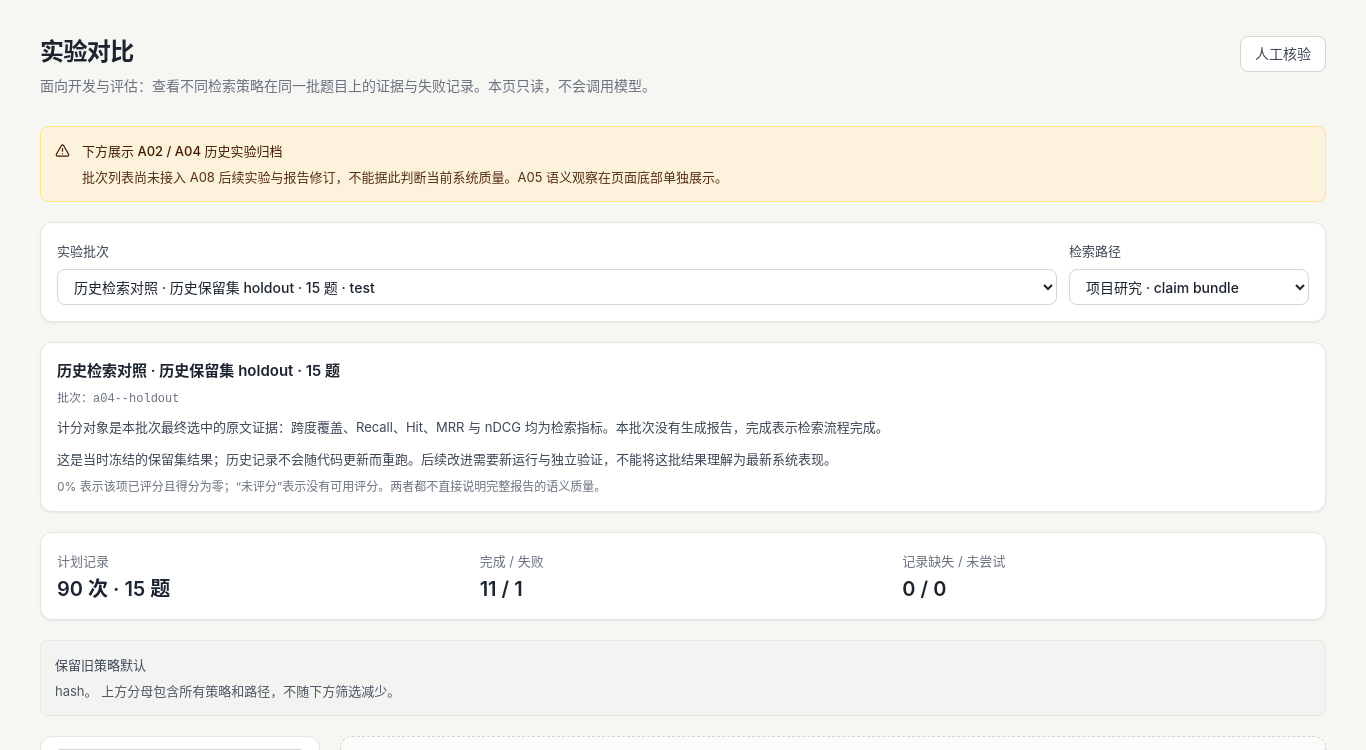
Scenario: experiment comparison › keeps historical scoring context aligned when switching batches
expect the element named "当前批次说明" shows "历史保留集 holdout · 15 题": met, box [40,342,1326,512]
expect the element named "当前批次说明" shows "本批次没有生成报告": met, box [57,419,889,435]
Select "历史真实生成 · 开发集 dev · 2 题 · test" in the dropdown labelled "实验批次" at (557, 287), box [57,269,1057,305]
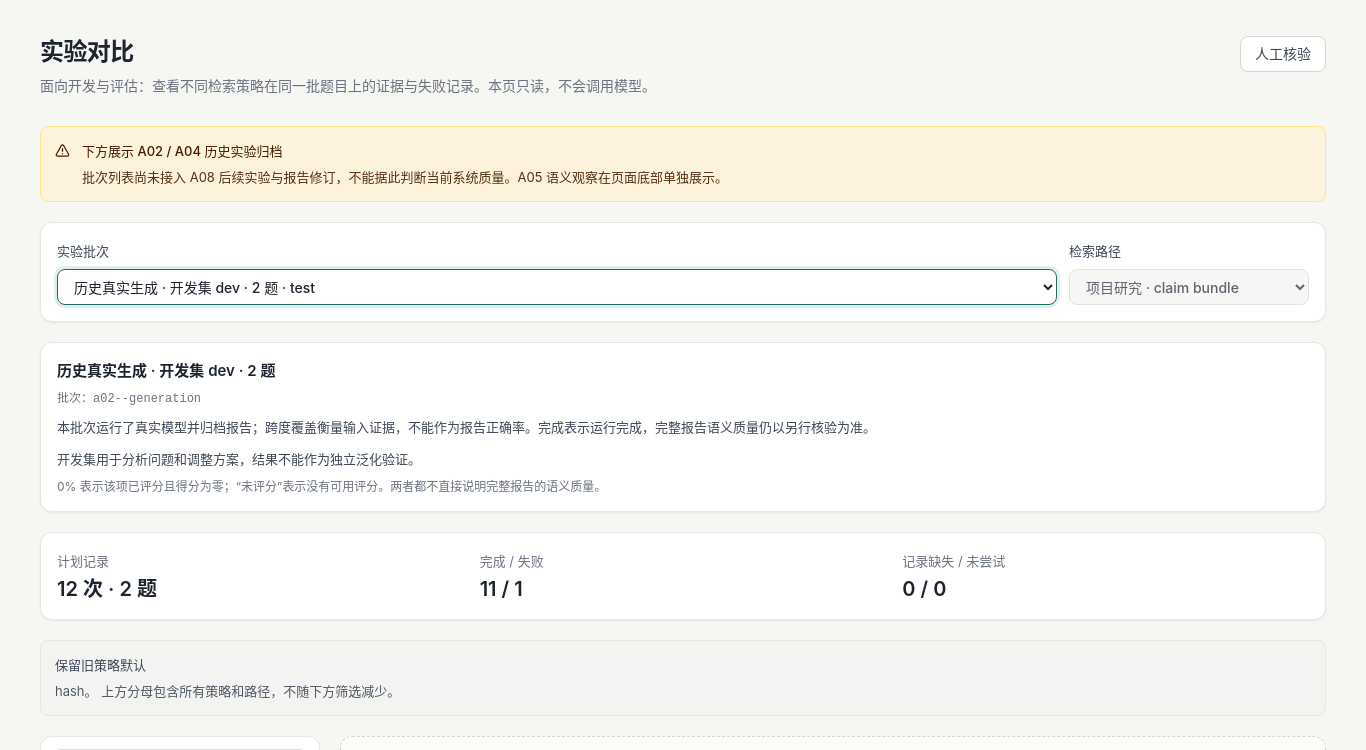
expect the element named "当前批次说明" shows "历史真实生成 · 开发集 dev": met, box [40,342,1326,512]
expect the element named "当前批次说明" shows "本批次运行了真实模型并归档报告": met, box [57,419,876,435]
expect the element named "当前批次说明" shows "结果不能作为独立泛化验证": met, box [57,451,421,467]
